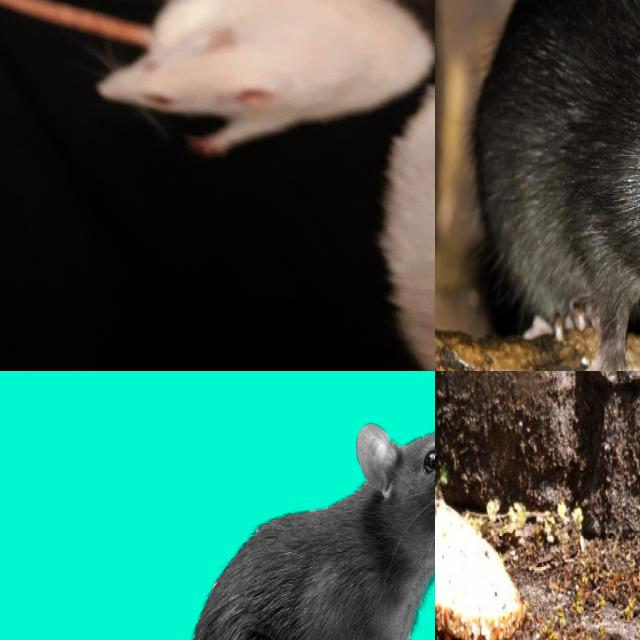rat: (168, 410, 435, 640), (471, 0, 640, 345), (96, 0, 435, 156)
